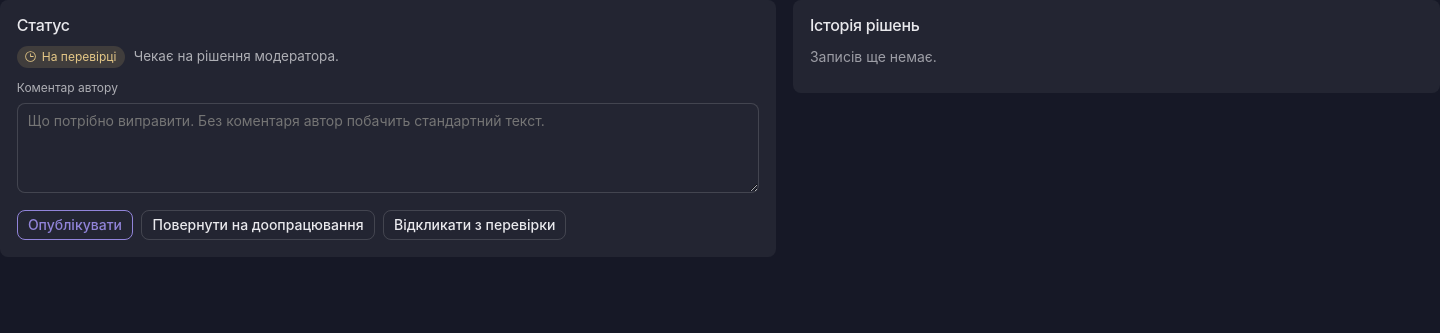
ScenarioPublishComponent › refusals › DW-5.4 shows the server's own message, does not toast and does not tell the parent
Click the button "Опублікувати".
click(75, 225)  # box [17, 210, 133, 240]
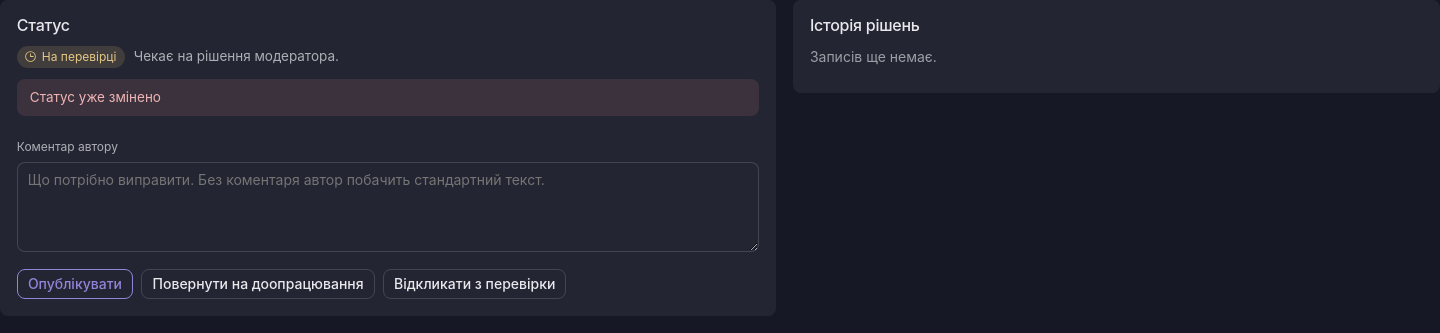
expect the message with class "banner-error" reads "Статус уже змінено": met, box [30, 89, 161, 105]
